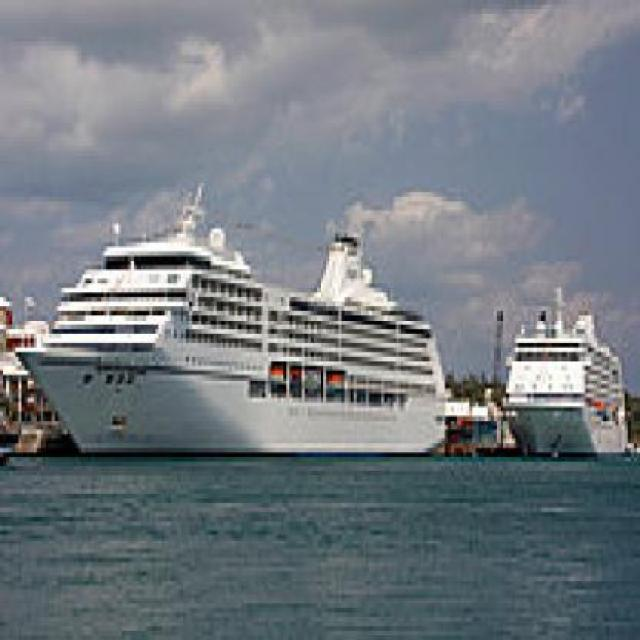cruise: (4, 175, 461, 472), (495, 280, 635, 467)
